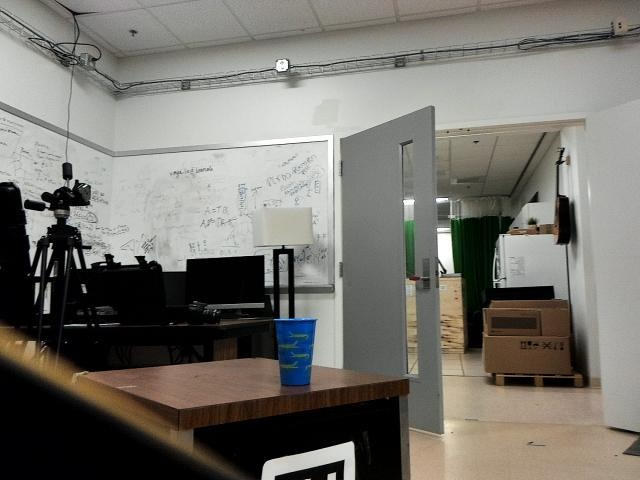water_cup: (271, 314, 321, 395)
